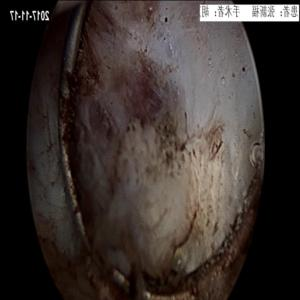film: (108, 46, 197, 173)
